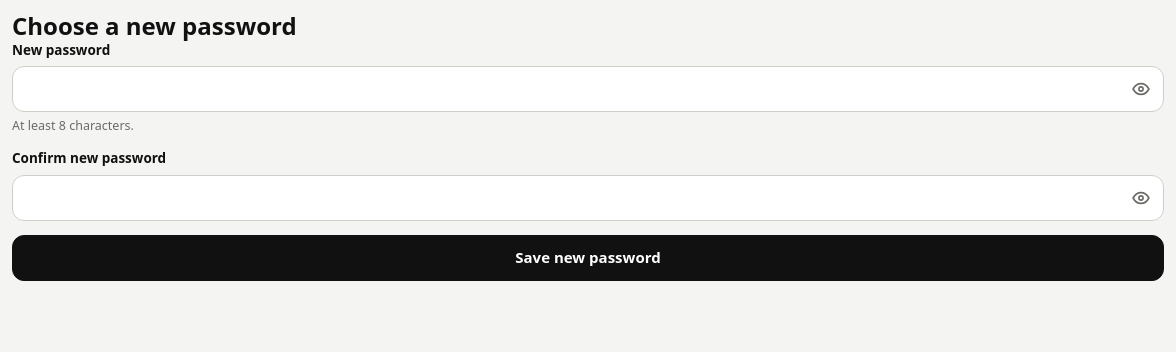
ResetForm › keeps the link usable after a lost connection and clears the field
Type "orange kettle drum" into the password field labelled "New password" at (588, 89), box x1=12 y1=66 x2=1164 y2=112
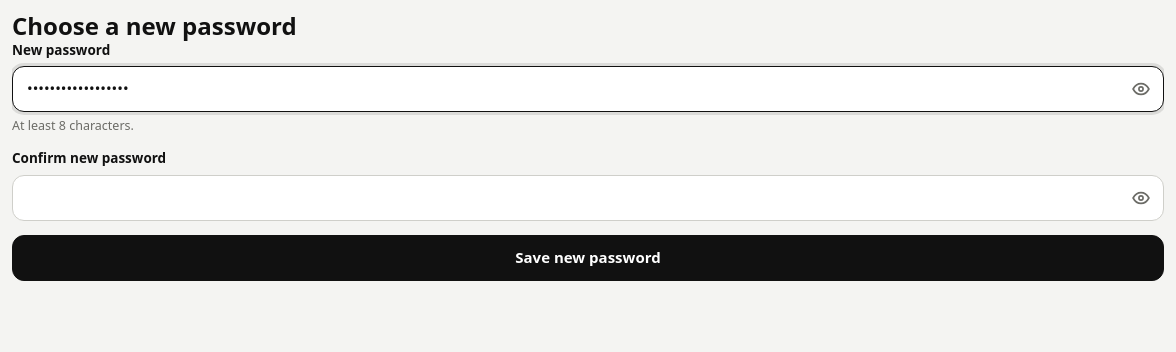
Type "orange kettle drum" into the password field labelled "Confirm new password" at (588, 198), box x1=12 y1=175 x2=1164 y2=221
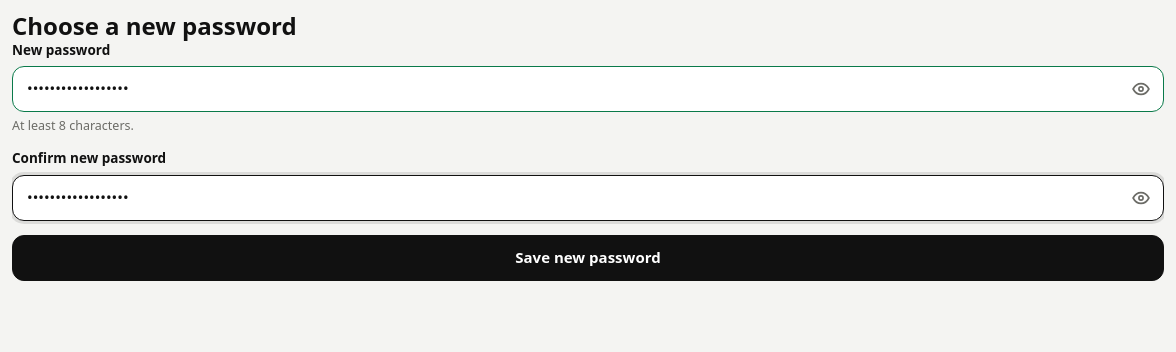
Click the button "Save new password" at (588, 258), box x1=12 y1=235 x2=1164 y2=281
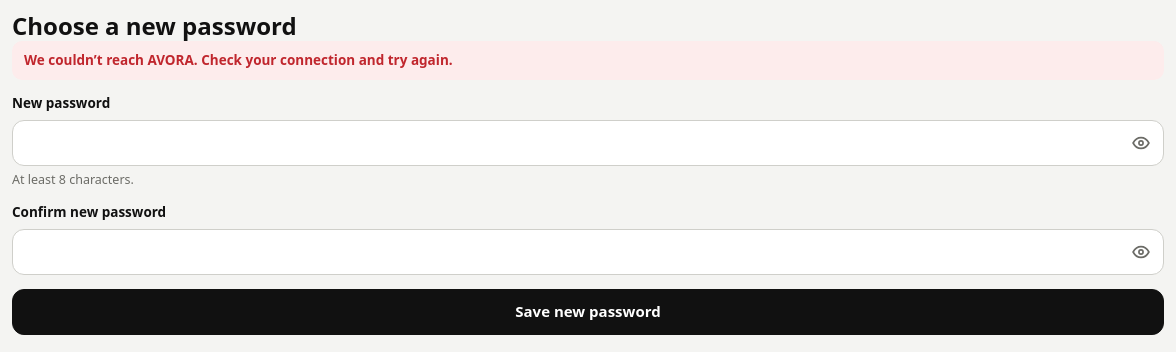
Check: the button "Save new password" is enabled, box x1=12 y1=289 x2=1164 y2=335
Check: the message shows "couldn’t reach AVORA", box x1=24 y1=51 x2=453 y2=69
Check: the password field labelled "New password" is empty, box x1=12 y1=120 x2=1164 y2=166
